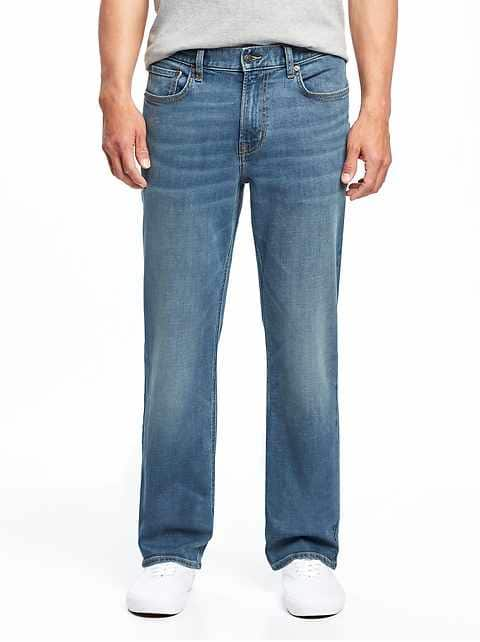Jeans: (122, 52, 350, 567)
